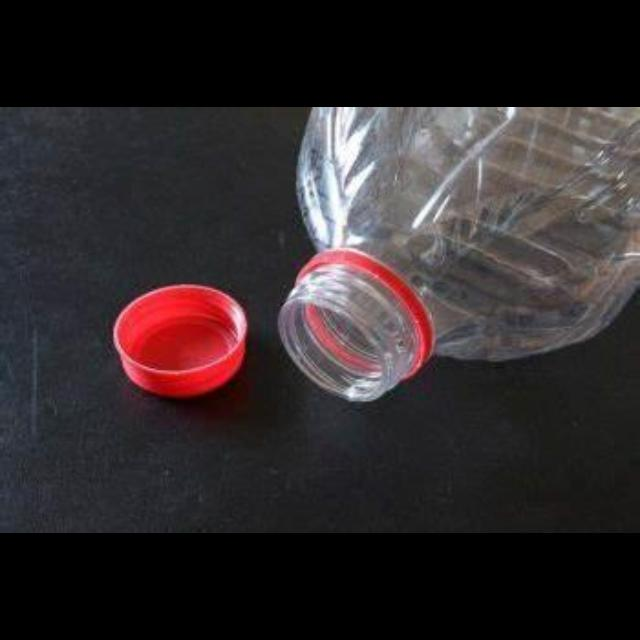garrafa plástica: (276, 107, 640, 403)
tampa plástica: (114, 281, 248, 399)
